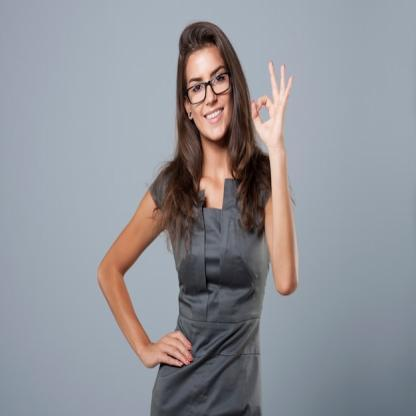ok: (248, 57, 294, 150)
